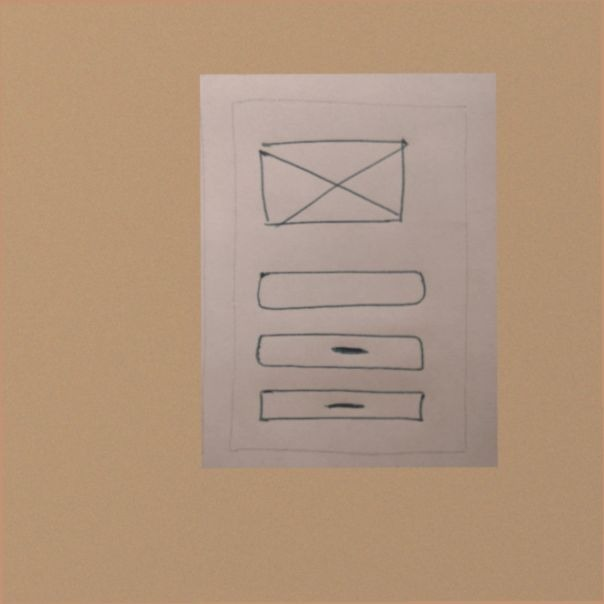button: (252, 327, 428, 380), (254, 386, 429, 431)
image: (256, 133, 413, 233)
text_input: (251, 264, 429, 321)
